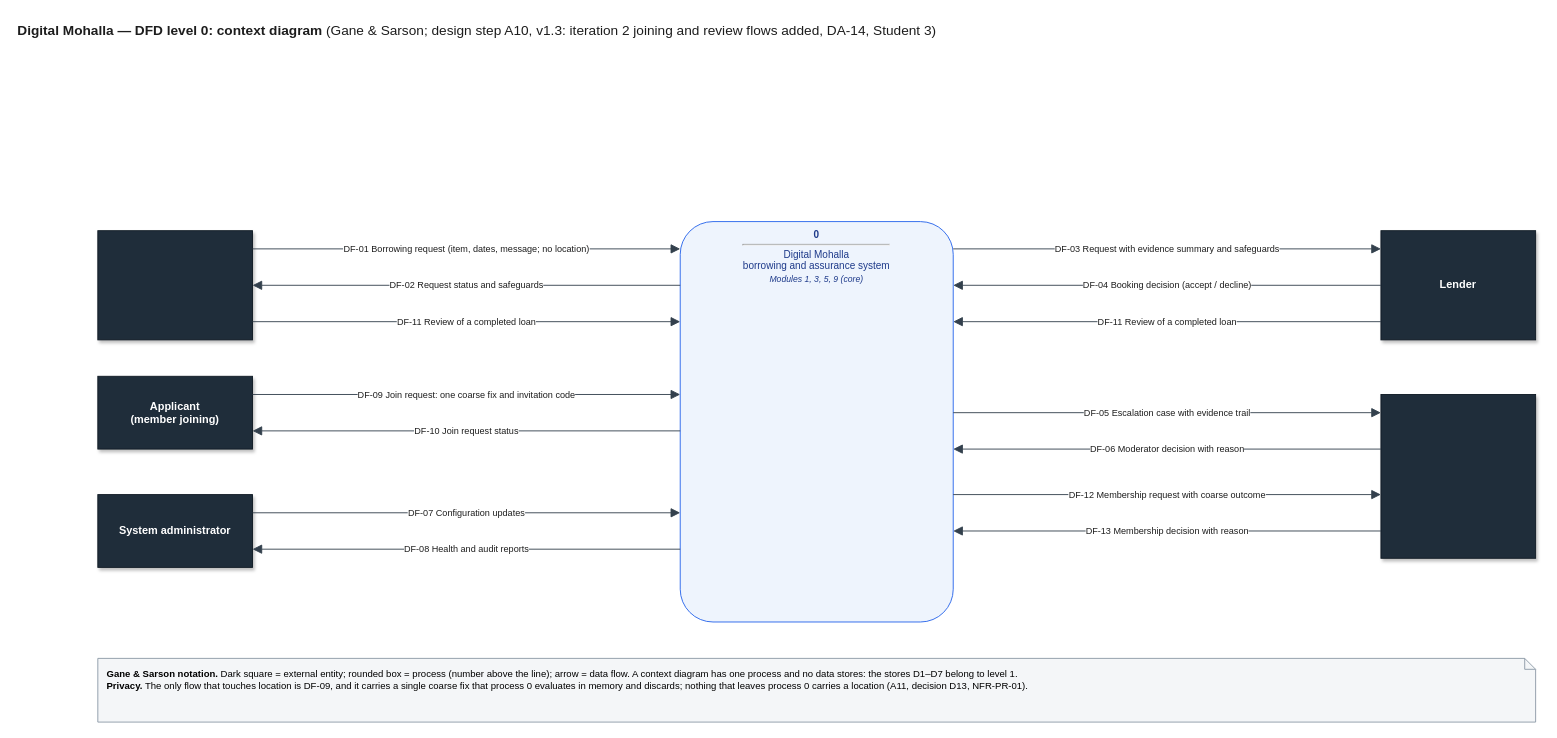
Some shapes in this 1557 by 738 pixel diagram are drawn without their labels. The shapes that lost their labels are listed below. From the top down, each one's centre as x and y in pixels, then its label:
At (x=175, y=286): "Borrower".
At (x=1458, y=477): "Community moderator".
